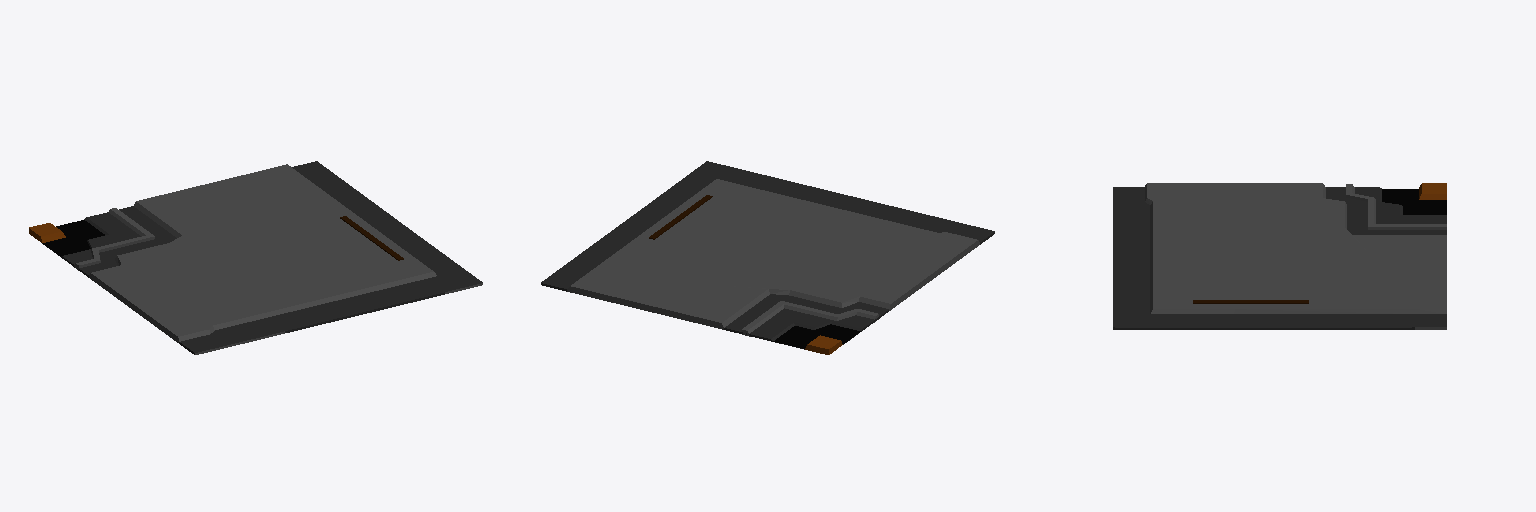
File: FloorTile_InnerCorner.obj
3 renders of one model, left to right at view 1: azimuth 30°, elevation 25°; view 2: azimuth 150°, elevation 25°; view 3: azimuth 270°, elevation 25°, orthographic.
Parts seen in each view (by area): view 1: FloorTile_InnerCorner_Plane.228; view 2: FloorTile_InnerCorner_Plane.228; view 3: FloorTile_InnerCorner_Plane.228.
Boxes of the visible parts, box(x1,y1,x2,y2) form: FloorTile_InnerCorner_Plane.228: box(29, 161, 482, 354); FloorTile_InnerCorner_Plane.228: box(541, 161, 994, 354); FloorTile_InnerCorner_Plane.228: box(1113, 183, 1446, 329).
Bounding box in the file's own units: 2 × 0.051 × 2.